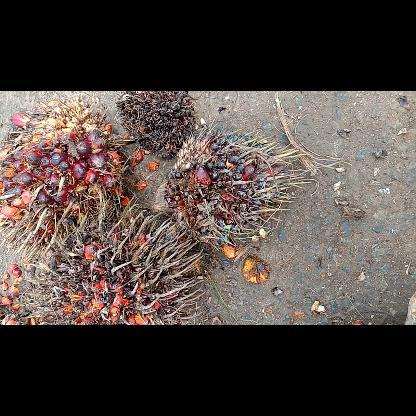TBS abnormal: (150, 124, 310, 260), (117, 91, 195, 159)
TBS masak: (0, 98, 135, 246)
Terlalu masak: (28, 204, 202, 324)
